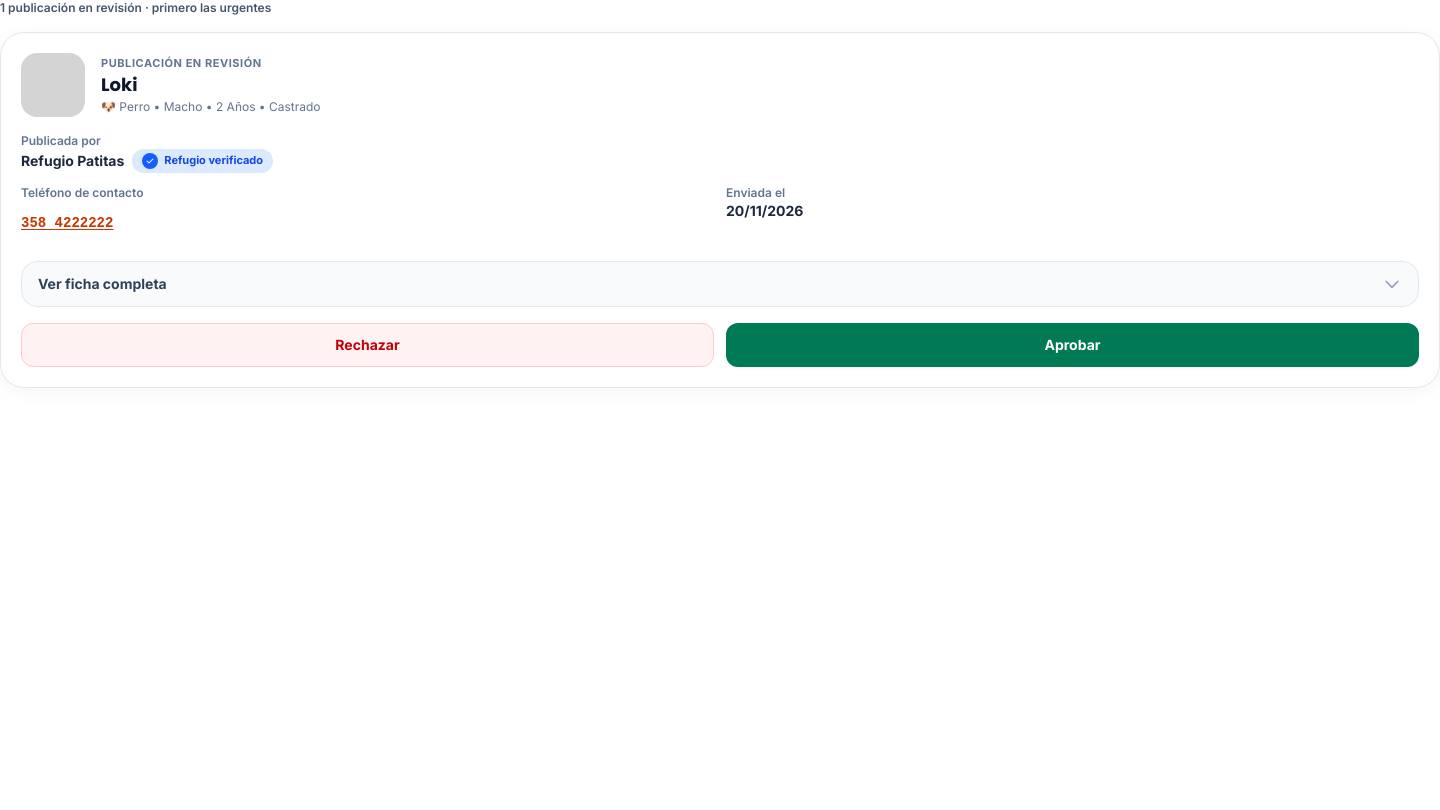
Test case: PetReviewQueue › aprueba con nota opcional y saca la mascota de la cola
Step 1. Click the button "Aprobar" → (1072, 345), box [726,323,1419,367]
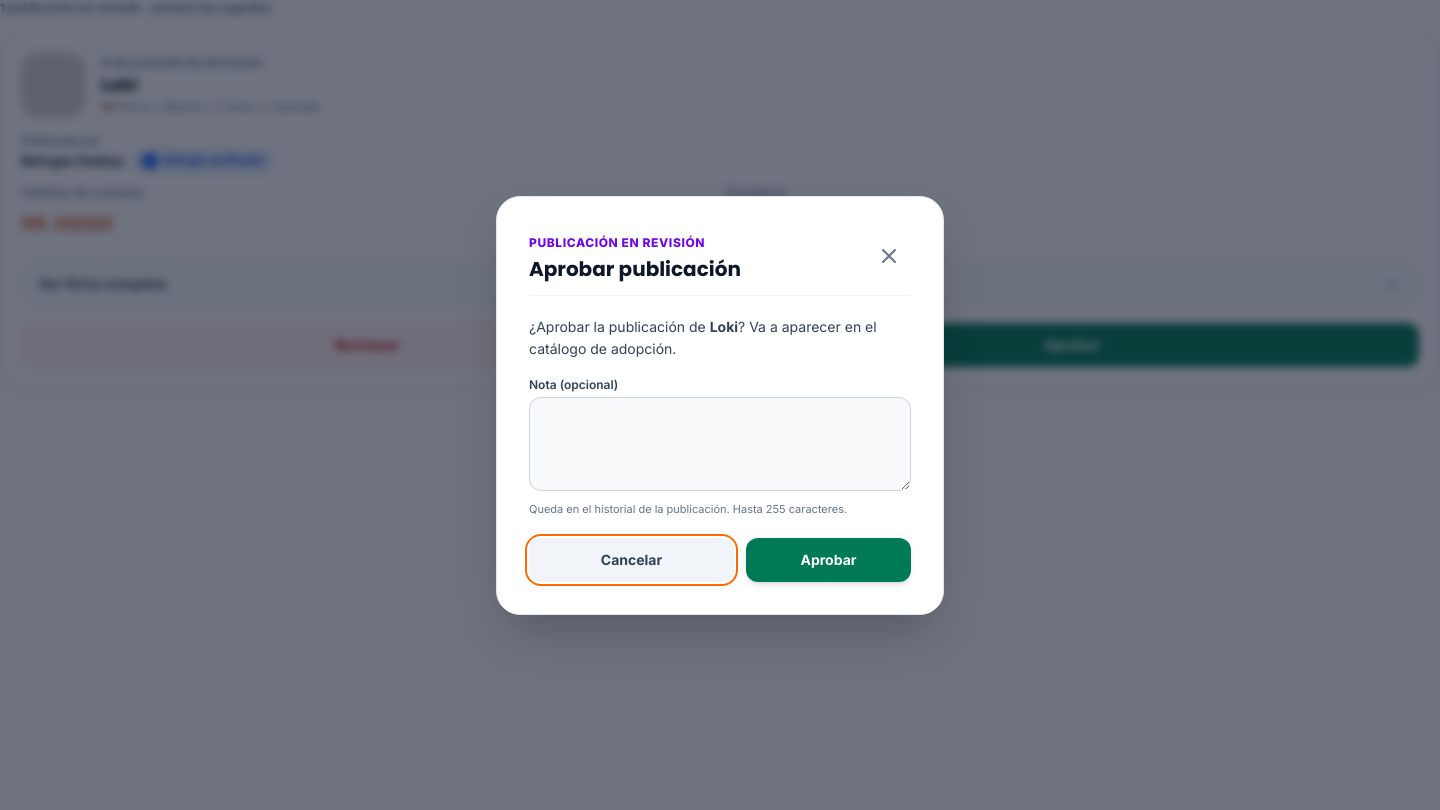
Result: the dialog shows "¿Aprobar la publicación de Loki? Va a aparecer en el catálogo de adopción."
Step 2. Type "  Fotos claras.  " into the text box labelled "Nota (opcional)" → (720, 444), box [529,397,911,491]
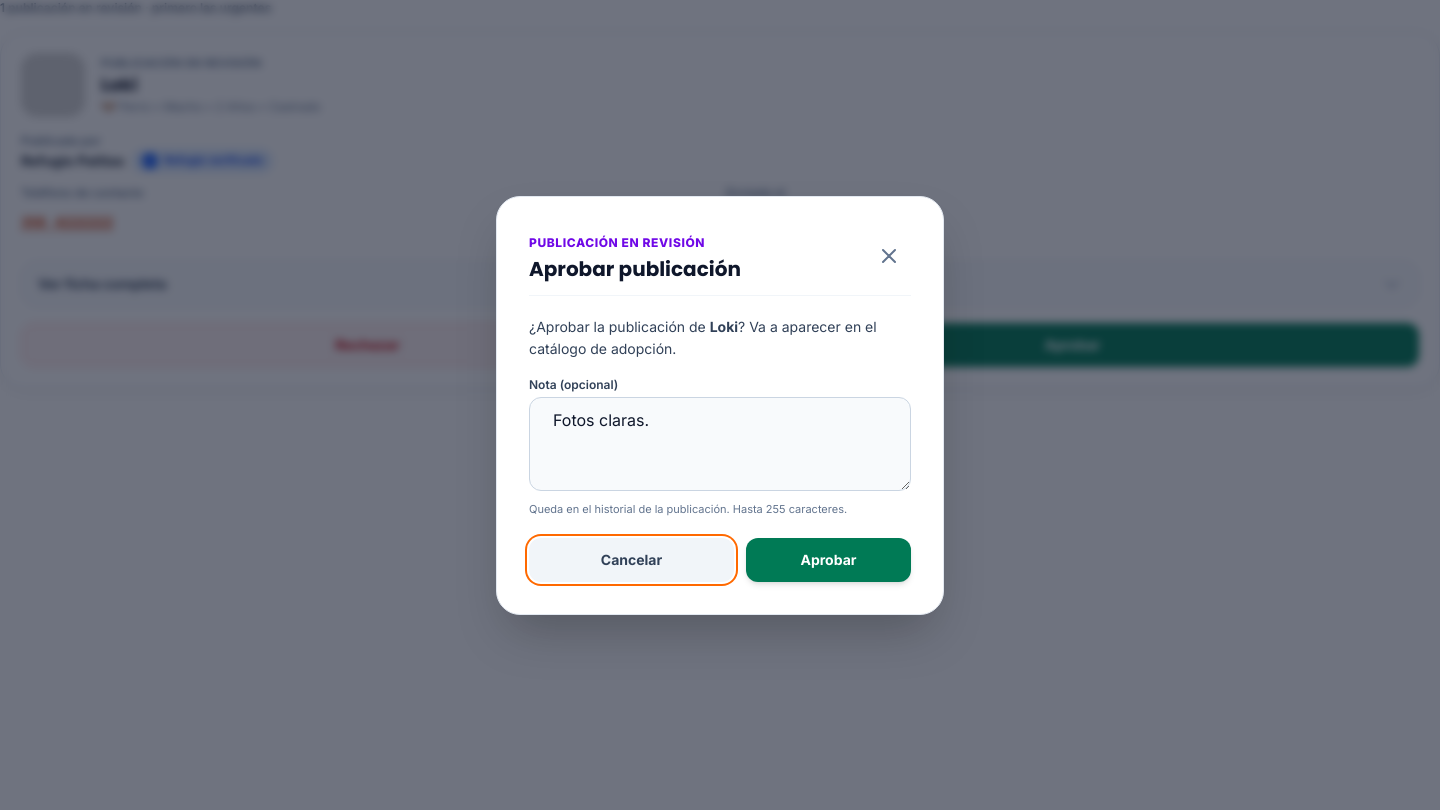
Step 3. Click the button "Aprobar" → (828, 560), box [746,538,911,582]
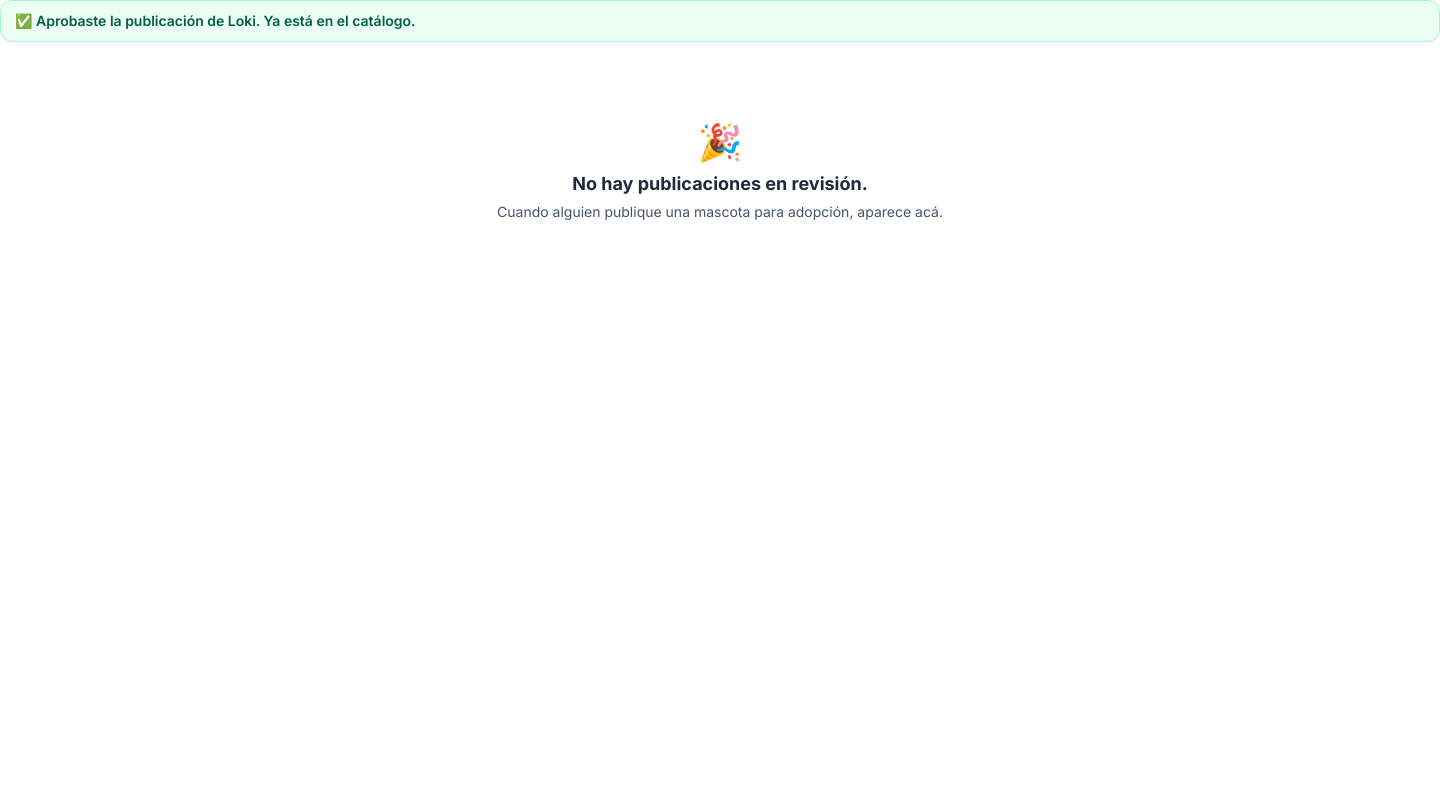
Result: the text "✅ Aprobaste la publicación de Loki. Ya está en el catálogo." is shown at [0,0,1439,42]
Result: the text "No hay publicaciones en revisión." is shown at [572,173,868,194]
